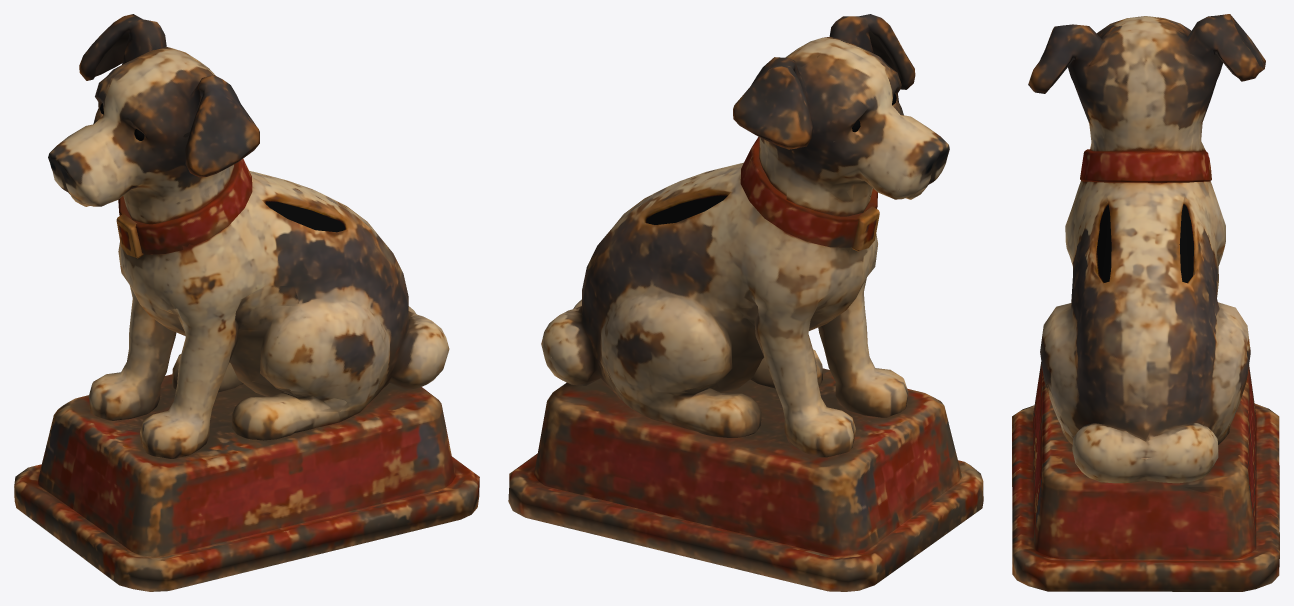
The model's file is dog_bank.glb.
3 renders of one model, left to right at view 1: azimuth 30°, elevation 25°; view 2: azimuth 150°, elevation 25°; view 3: azimuth 270°, elevation 25°, orthographic. The views are drawn at different scales.
Parts seen in each view (by area): view 1: geometry_0; view 2: geometry_0; view 3: geometry_0.
Part boxes in pixels (x1,y1,x2,y2): geometry_0: [14, 14, 479, 591]; geometry_0: [508, 14, 983, 591]; geometry_0: [1012, 14, 1279, 591].
Size of the model in its own units: 0.8215 by 1 by 0.5325.
Materials: 1 (1 with a texture image).
